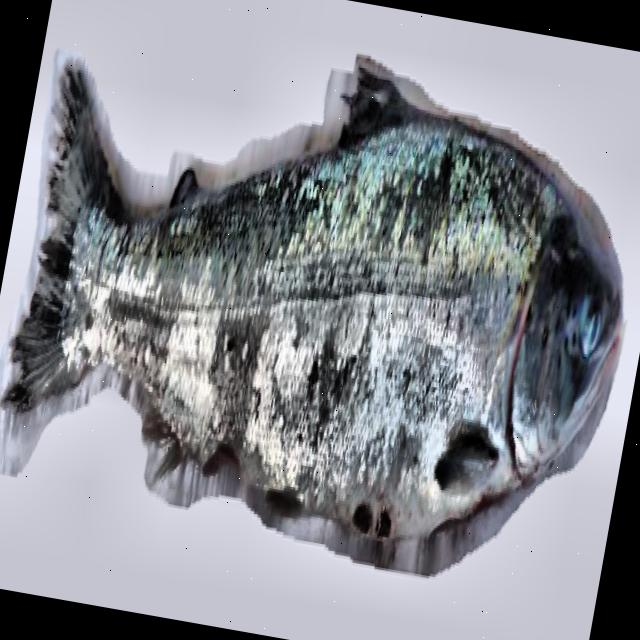mild_red: (62, 126, 554, 536)
